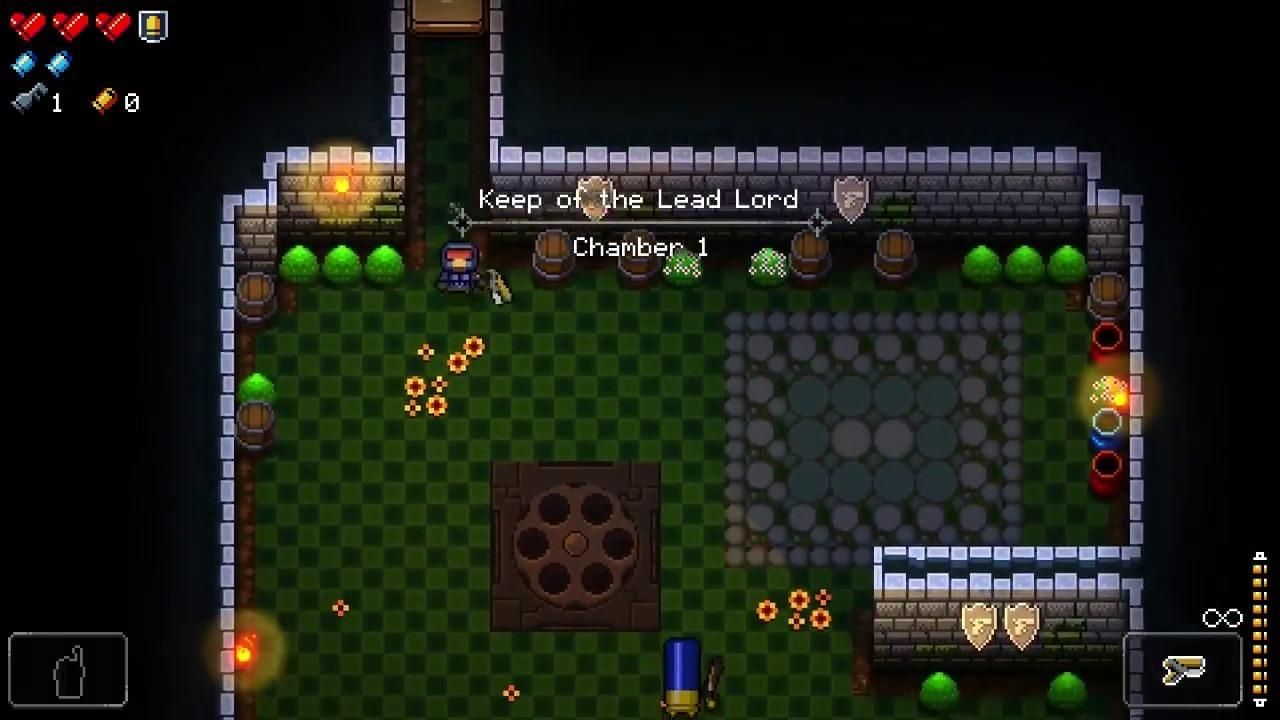blue_shotgun_kin: (663, 637, 702, 717)
player: (440, 243, 478, 294)
teleporter: (489, 461, 662, 632)
